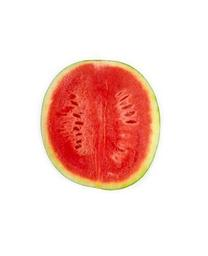watermelon: (39, 57, 161, 193)
